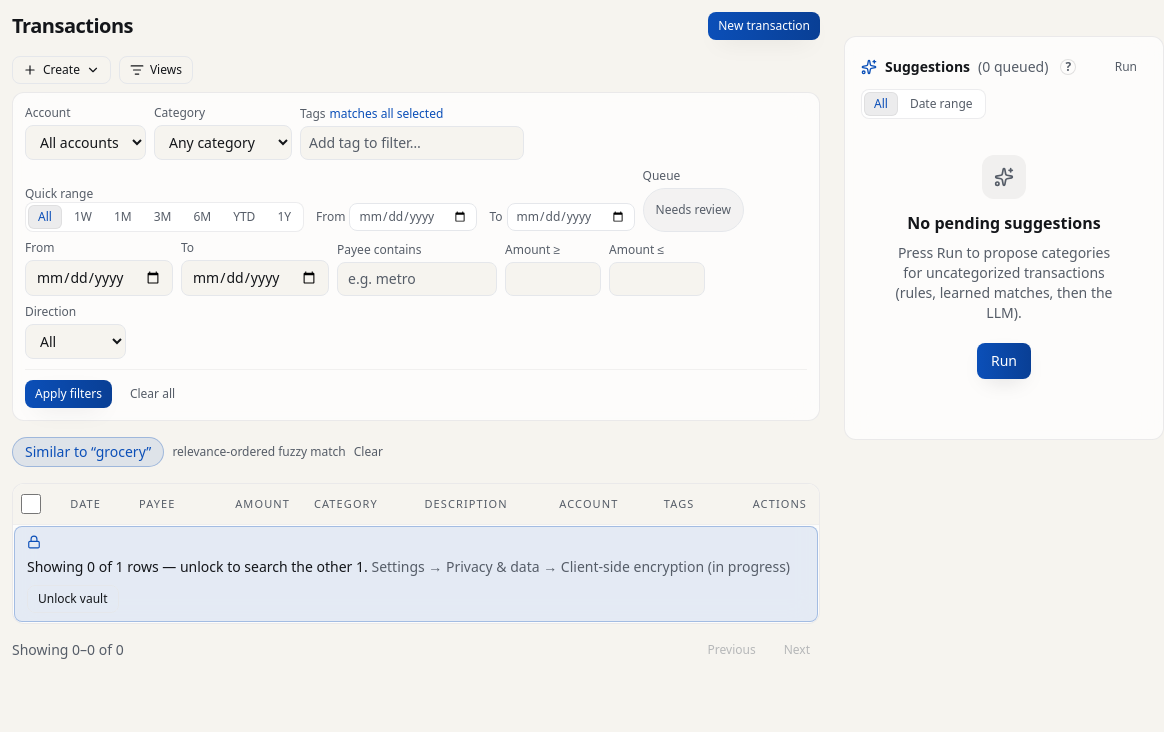
Test: §3.4-5 remedy exercise — the inline unlock actually restores the feature › S5 search view: the withheld row comes back after unlocking in place
This screenshot has width=1164, height=732.
Expected: the text "Similar to “grocery”" is shown, [12,437,164,467]
Expected: the message with test id "vault-locked" shows "Showing 0 of 1 rows", [27,557,368,576]
Note: ONE interaction, zero navigation (docs/33 rule 7c).
Step 1. Click the button with test id "vault-unlock-toggle" → (73, 599), box [27,585,118,613]
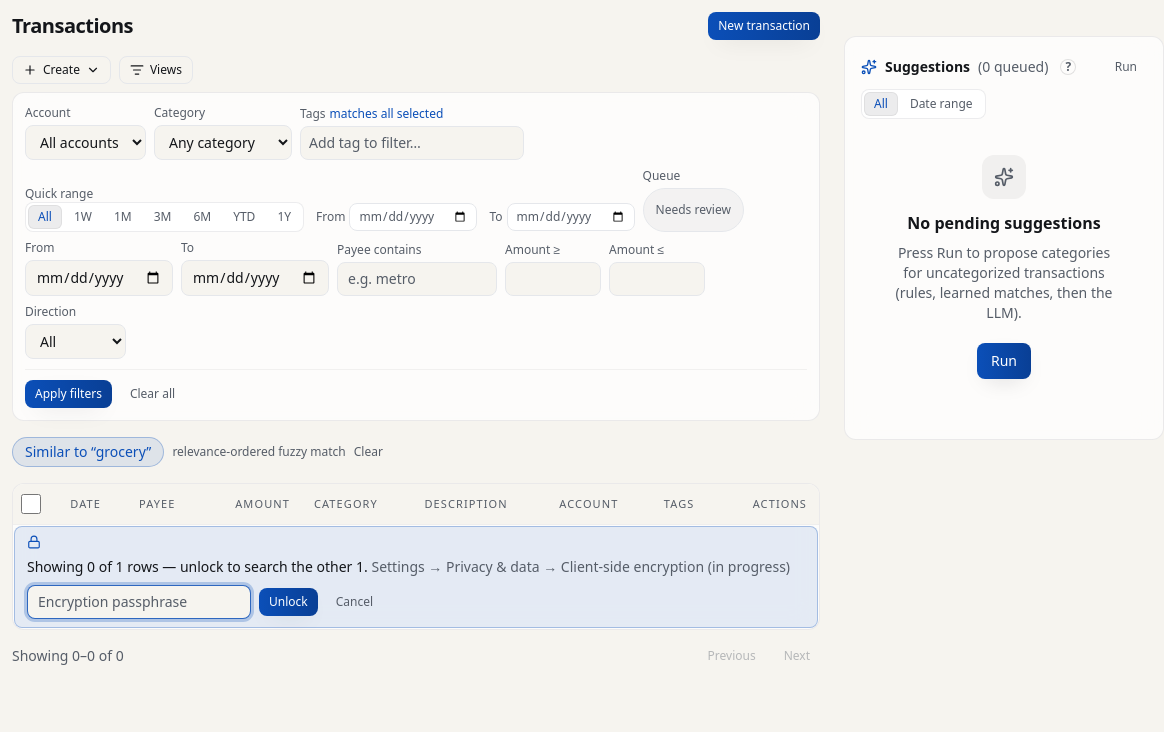
Step 2. Type "correct-horse-battery" into the password field labelled "Encryption passphrase" → (139, 602), box [27,585,251,619]
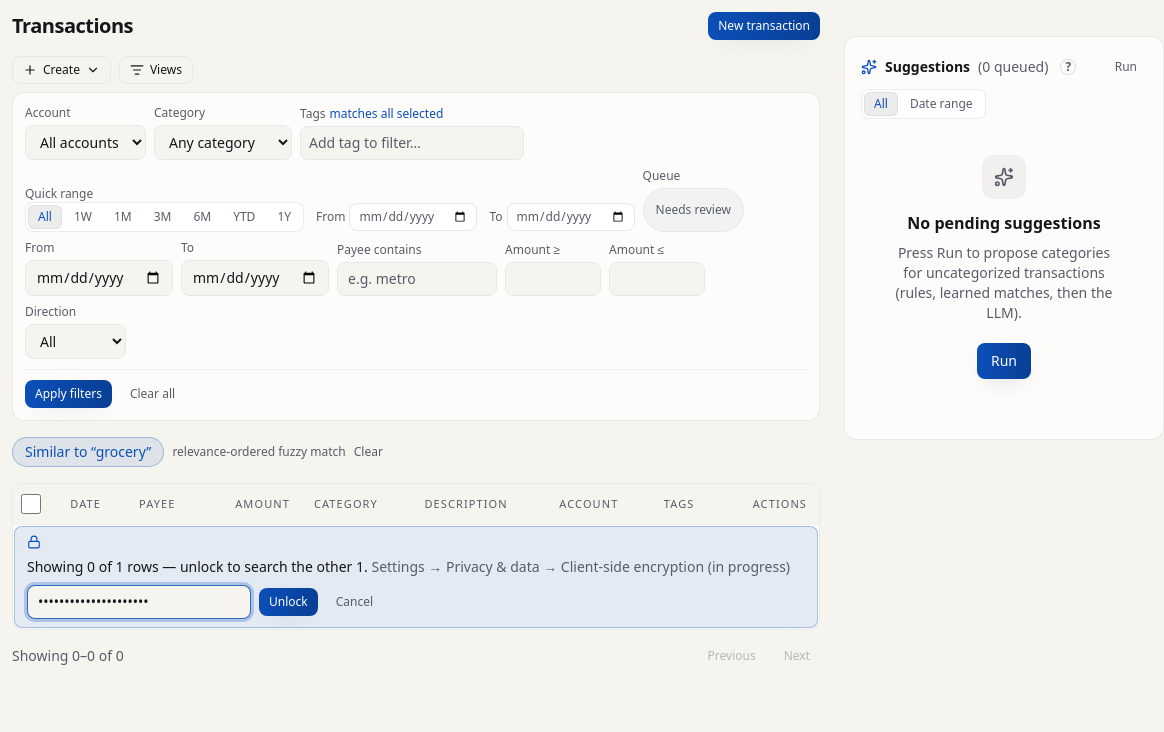
Step 3. Submit the form named "Encryption passphrase", box [27,585,383,619]
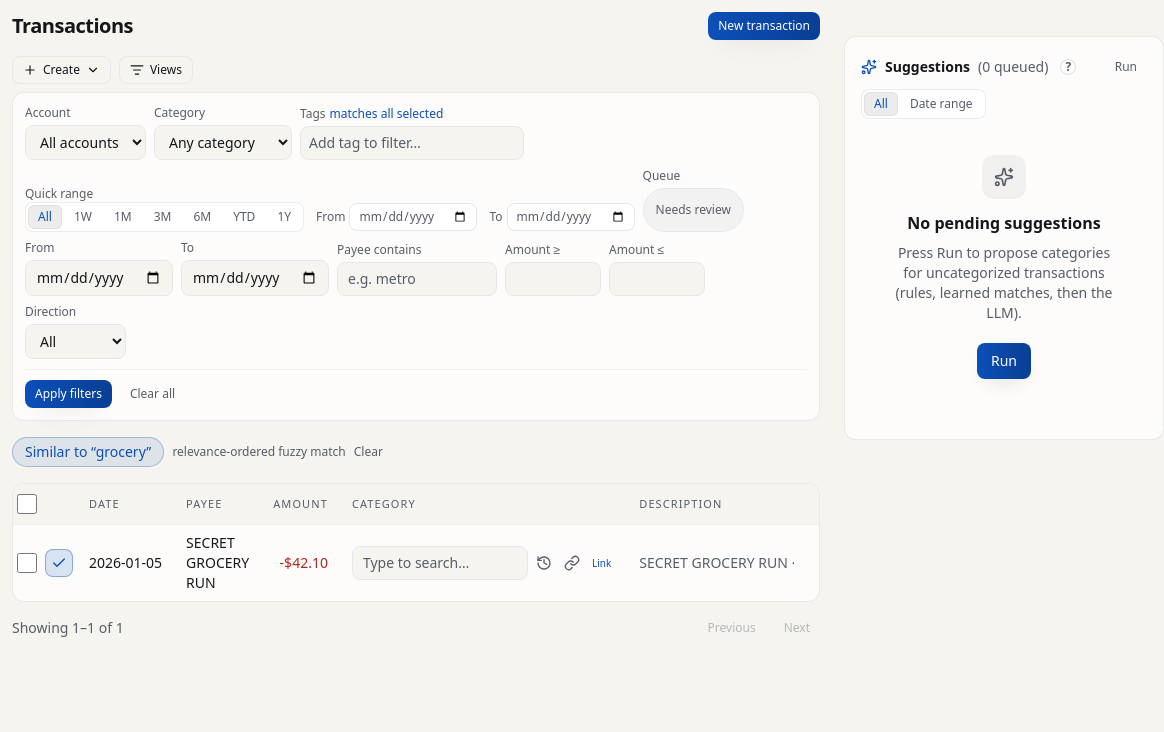
Now the message with test id "vault-locked" is gone
Now the text "SECRET GROCERY RUN" is shown, box [174,524,261,601]
